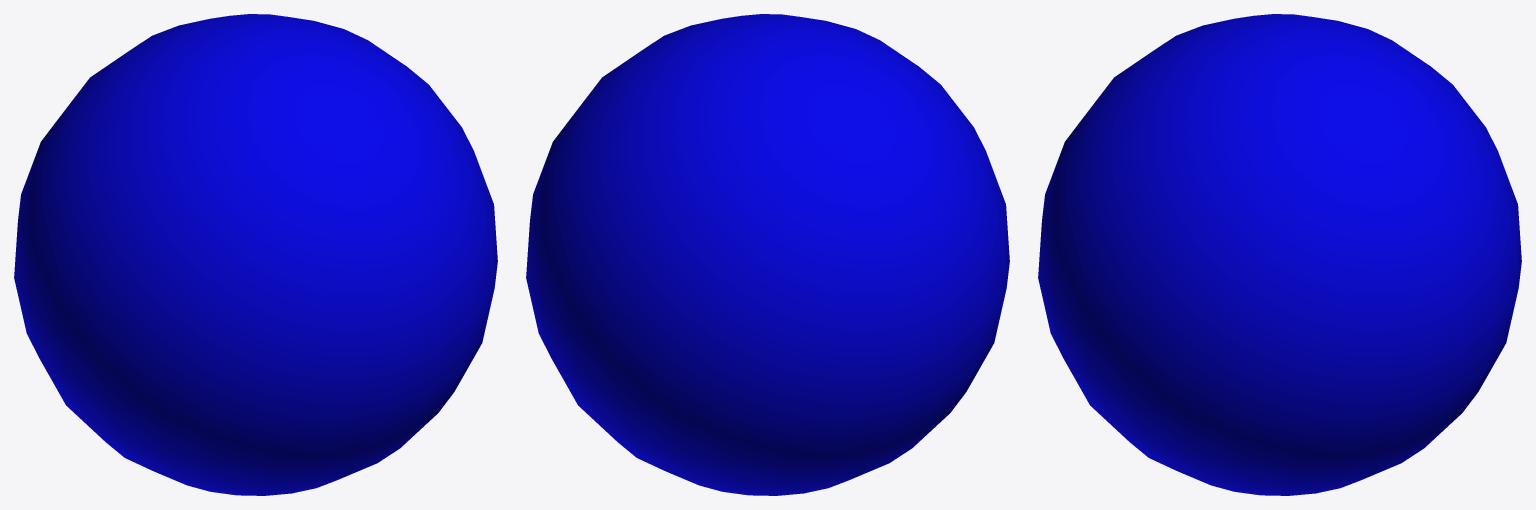
File: NagaiHighSchool.glb
The picture shows the model from 3 angles, left to right: view 1: azimuth 30°, elevation 25°; view 2: azimuth 150°, elevation 25°; view 3: azimuth 270°, elevation 25°; orthographic projection.
Visible parts, largest first — view 1: Geom3D; view 2: Geom3D; view 3: Geom3D.
Part boxes in pixels (left/top/right/bottom): Geom3D: left=14, top=14, right=497, bottom=495; Geom3D: left=526, top=14, right=1009, bottom=495; Geom3D: left=1038, top=14, right=1521, bottom=495.
Bounding box in the file's own units: 2 × 1.99 × 2.
